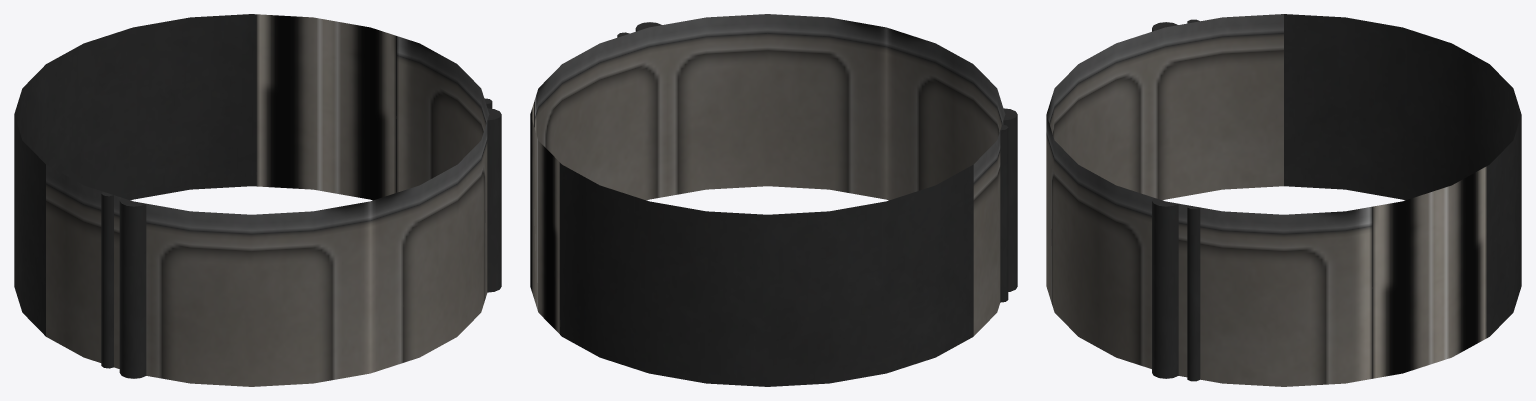
Rendered from hydra_lv_fuel_tank_s2_1.obj.
3 renders of one model, left to right at view 1: azimuth 30°, elevation 25°; view 2: azimuth 150°, elevation 25°; view 3: azimuth 270°, elevation 25°, orthographic.
Parts seen in each view (by area): view 1: 1; view 2: 1; view 3: 1.
Boxes of the visible parts, left/top/right/bottom form: 1: left=14, top=14, right=501, bottom=386; 1: left=530, top=14, right=1017, bottom=386; 1: left=1046, top=14, right=1521, bottom=386.
Size of the model in its own units: 2.5 by 1 by 2.5.
